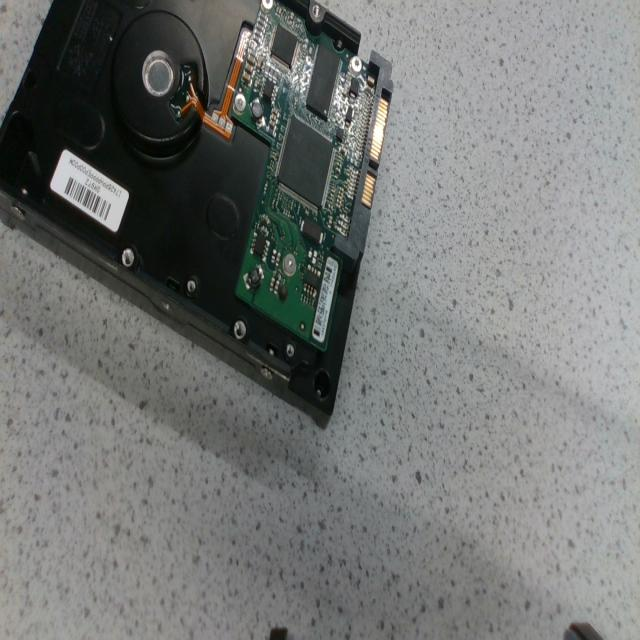case: (0, 0, 394, 413)
pcb: (230, 0, 379, 355)
screw: (283, 255, 296, 276), (234, 92, 246, 114), (350, 56, 362, 74), (262, 0, 272, 11)
